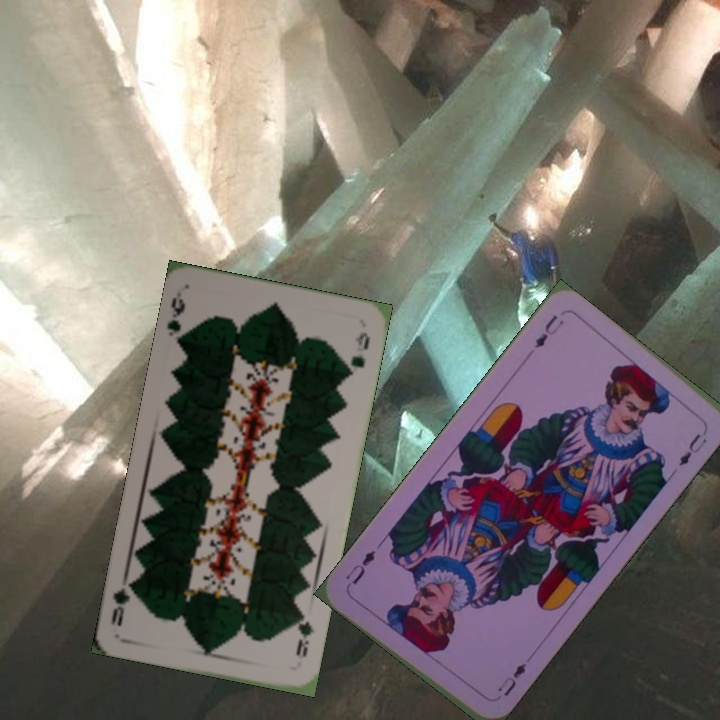EU: (493, 659, 529, 700), (530, 310, 566, 351)
G9: (162, 293, 189, 348), (292, 607, 317, 659)
